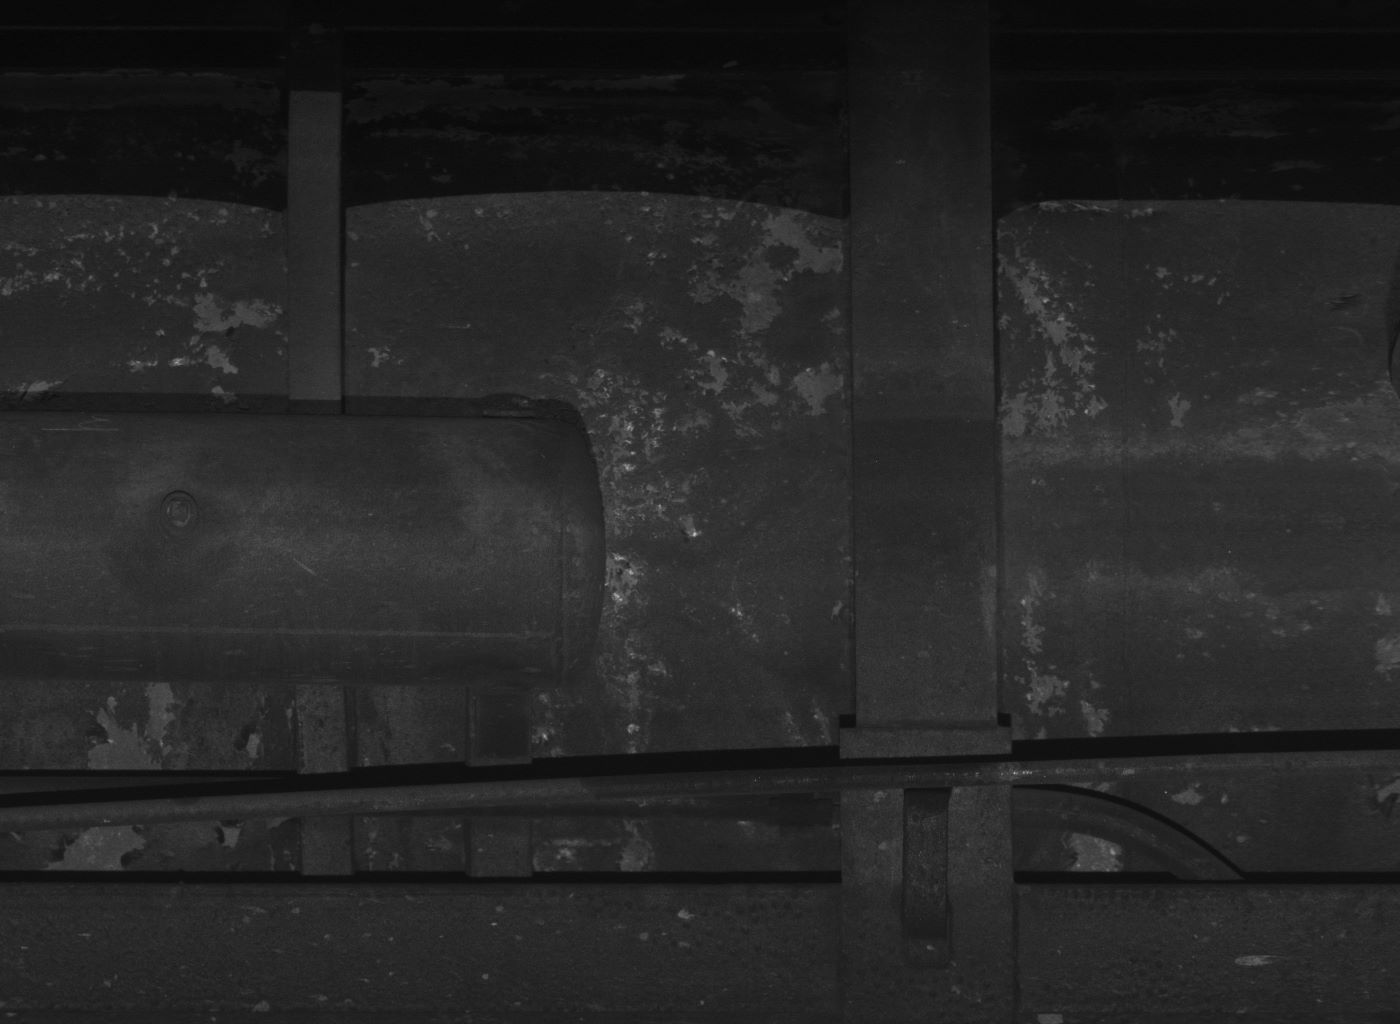Upper lever: (900, 747, 954, 971)
